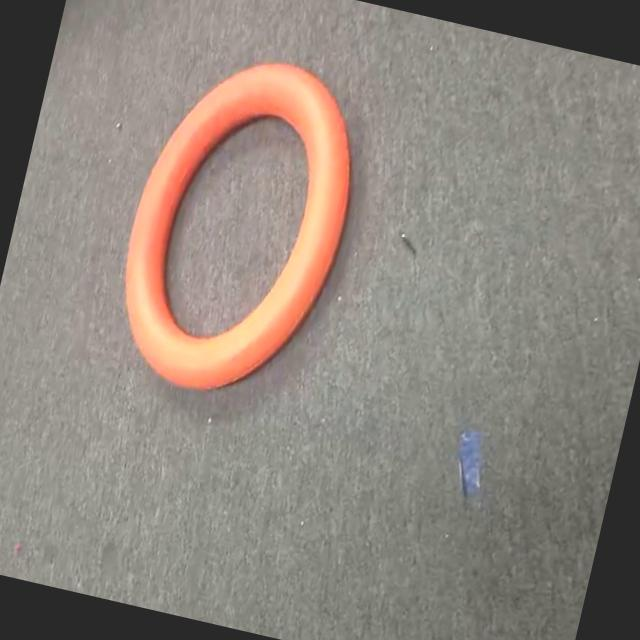note: (88, 22, 388, 431)
